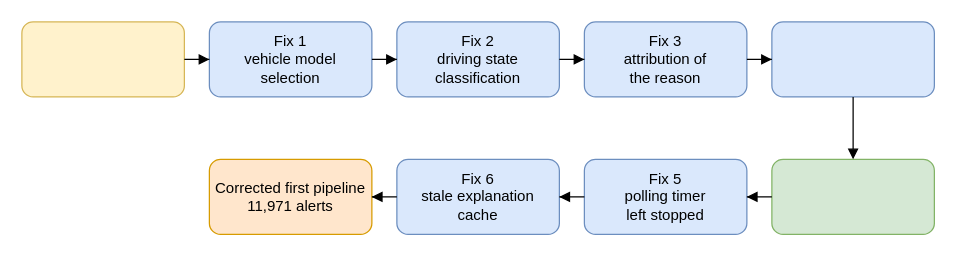
The diagram is 956 pixels wide and 256 high, and some of its shapes have lost their labels. The centre of each missing label's shape, as x and y in pixels:
"Fix 4 one parser for replay" belongs at (852,59).
"Full run through the application" belongs at (852,196).
"Root cause analysis 15,945 alerts, all explained" belongs at (102,59).
